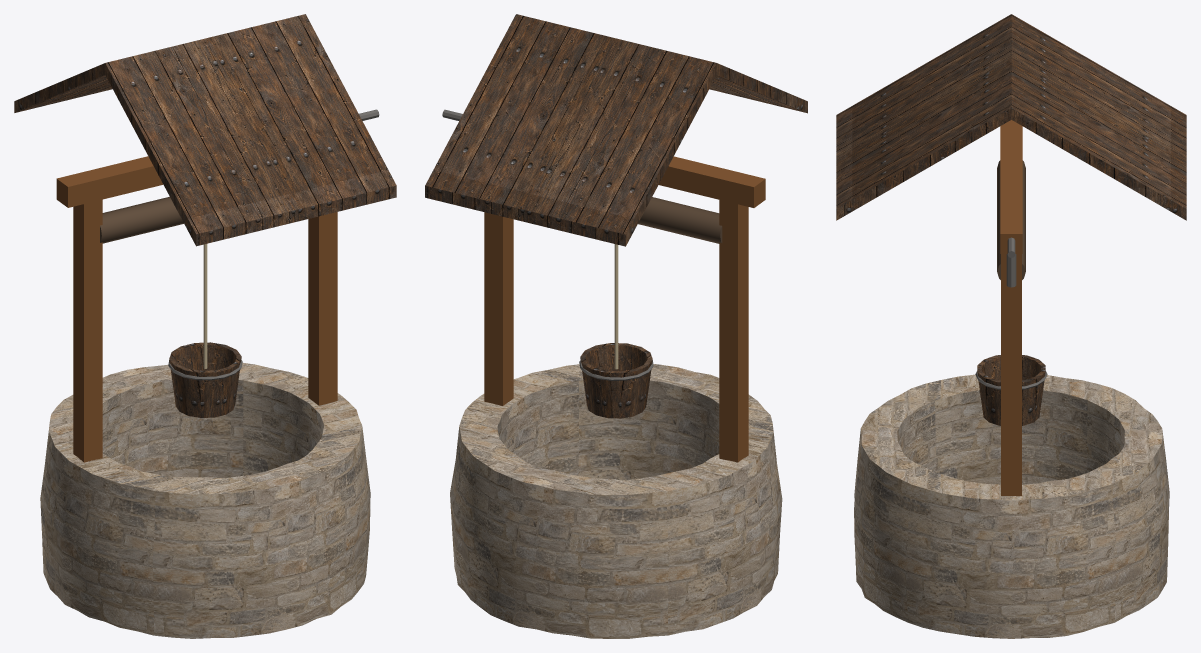
The model's file is vau-well-v01.glb.
3 views of the same model, side by side, from view 1: azimuth 30°, elevation 25°; view 2: azimuth 150°, elevation 25°; view 3: azimuth 270°, elevation 25° (orthographic). The views are drawn at different scales.
Visible parts, largest first — view 1: well; view 2: well; view 3: well.
Boxes of the visible parts, x1,y1,x2,y2 form: well: (14, 14, 396, 638); well: (425, 14, 807, 638); well: (836, 14, 1186, 638).
Size of the model in its own units: 2.2 by 3.56 by 2.2.
5 materials, 3 textured.
